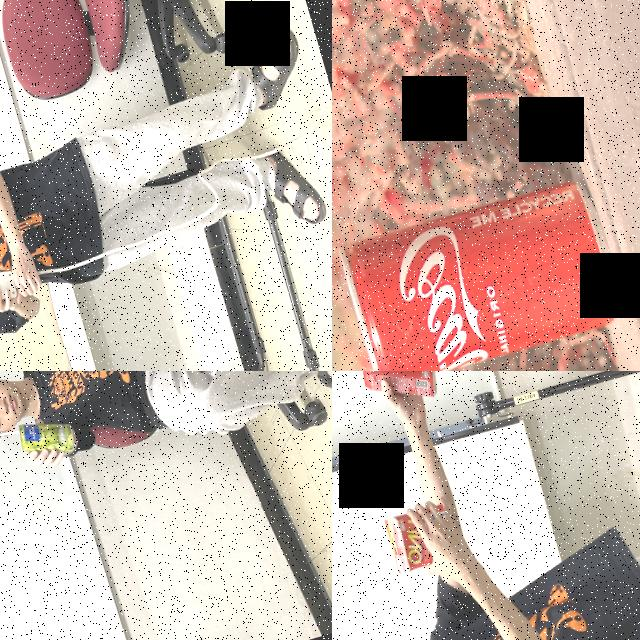can: (332, 169, 631, 371), (354, 371, 443, 416), (13, 408, 79, 466)
